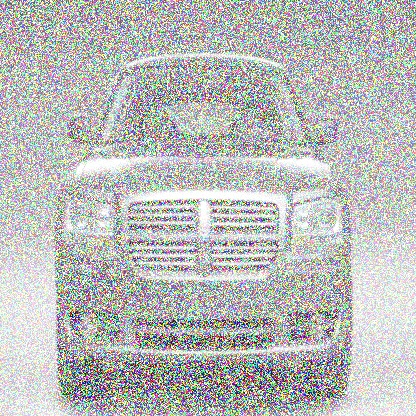Vehicle: (52, 52, 357, 414)
